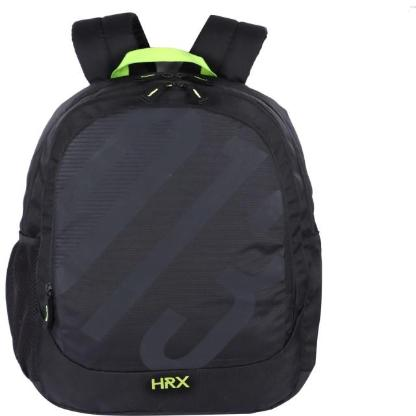bag: (7, 6, 325, 416)
